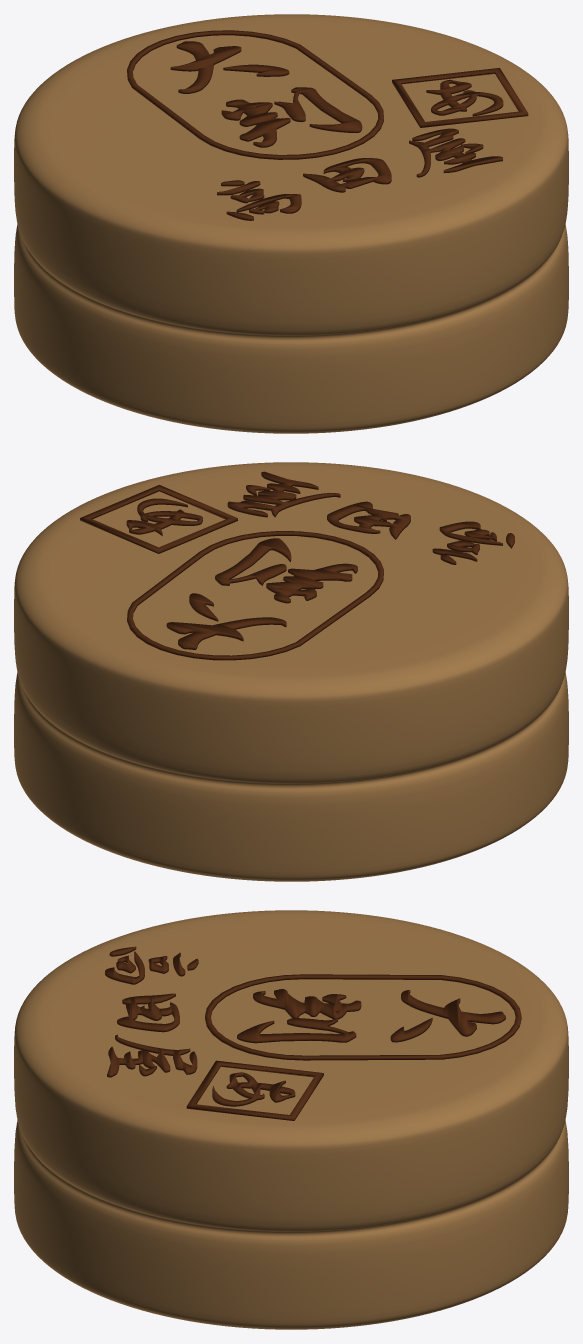
Rendered from ooban.glb.
3 renders of one model, top to bottom at view 1: azimuth 30°, elevation 25°; view 2: azimuth 150°, elevation 25°; view 3: azimuth 270°, elevation 25°, orthographic.
Visible parts, largest first — view 1: 円柱, 円, テキスト, 平面; view 2: 円柱, 円, テキスト, 平面; view 3: 円柱, 円, テキスト, 平面.
Boxes of the visible parts, x1,y1,x2,y2 form: 円柱: [14, 14, 568, 433]; 円: [127, 30, 383, 159]; テキスト: [217, 128, 502, 220]; 平面: [392, 68, 528, 127]; 円柱: [14, 462, 568, 881]; 円: [127, 531, 383, 660]; テキスト: [227, 471, 514, 564]; 平面: [80, 485, 237, 553]; 円柱: [14, 910, 568, 1329]; 円: [205, 974, 521, 1060]; テキスト: [105, 946, 198, 1077]; 平面: [186, 1060, 323, 1120].
Bounding box in the file's own units: 1.99 × 0.8099 × 1.99.
